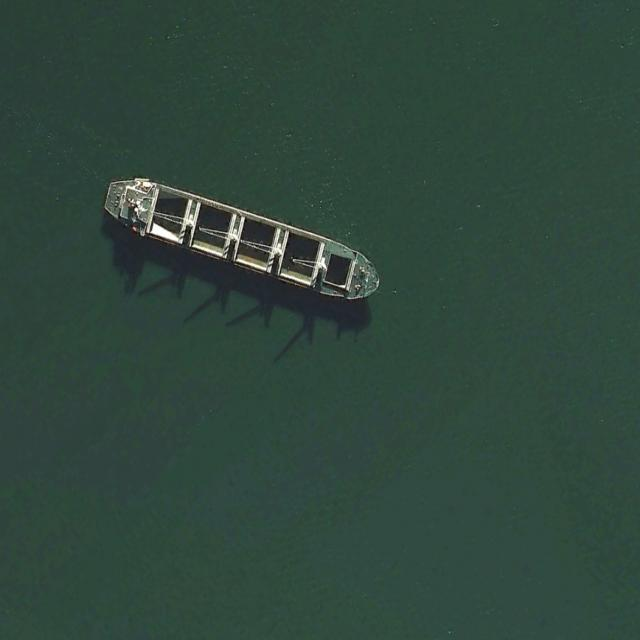Cargo: (100, 167, 387, 311)
